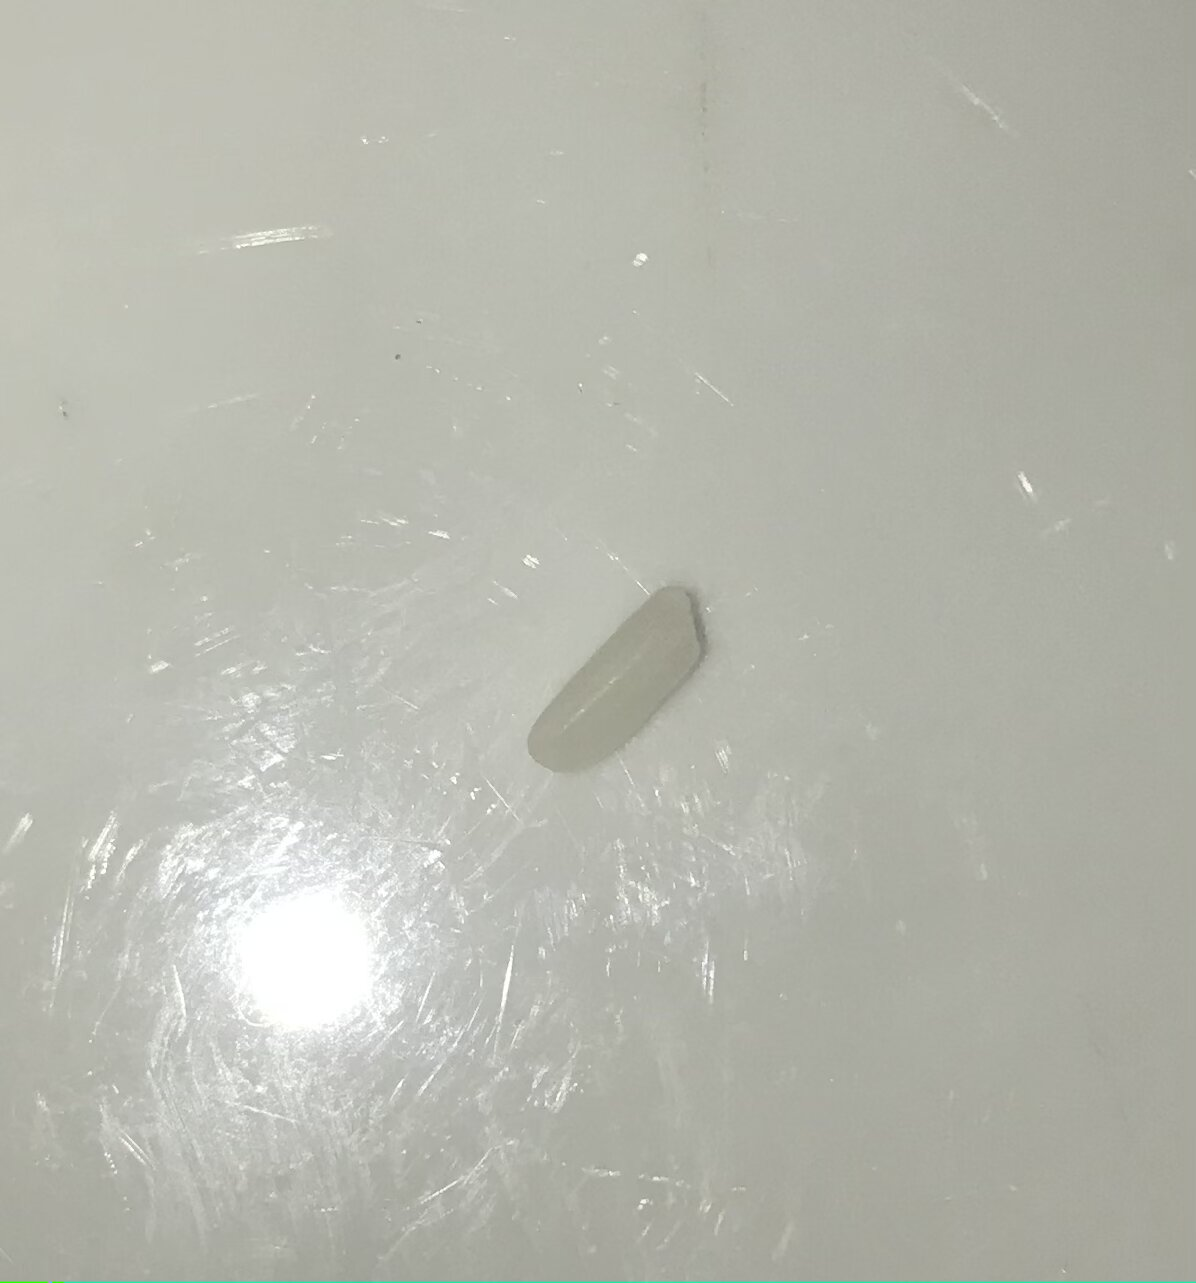Gao Lai Sua: (529, 564, 708, 781)
